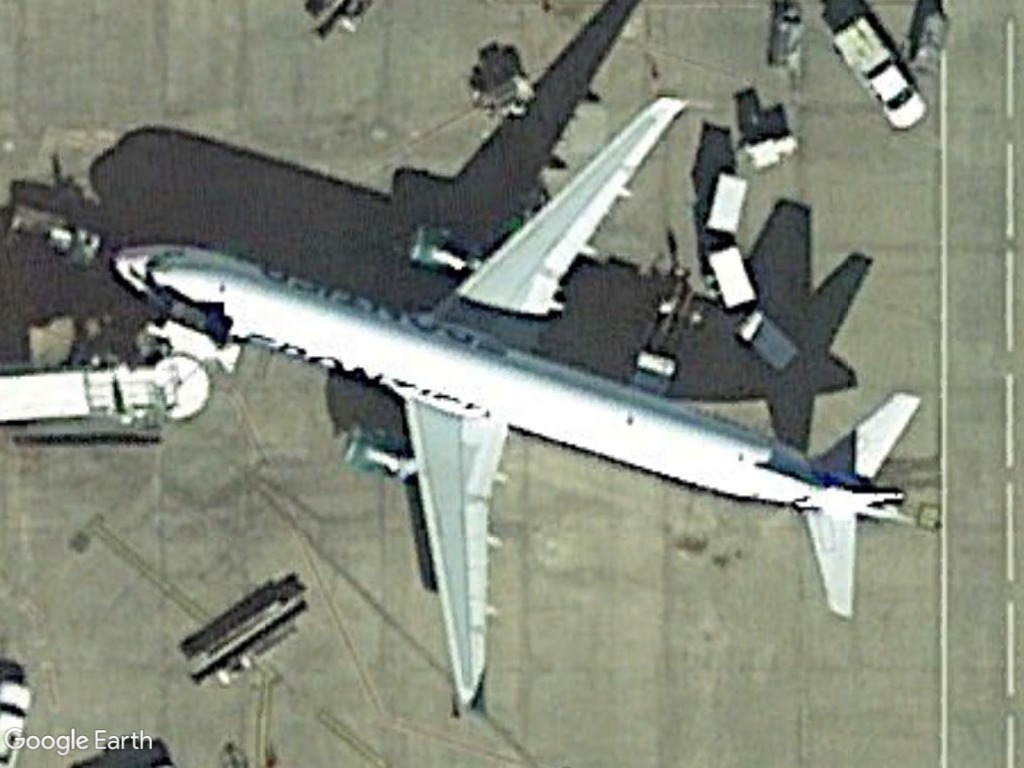airliner: (108, 91, 918, 722)
